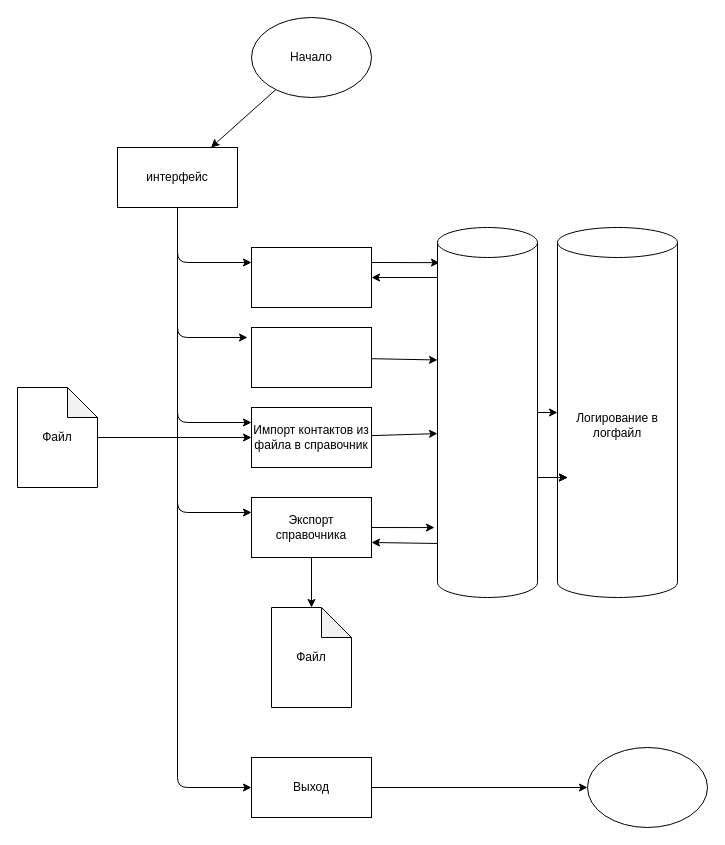
Image size: 725x845. Some labels were removed from this diagram. The box of each missing label's shape, as (x1, y1, x2, y2) in pixels:
Вывод списка контактов в терминал: (250, 246, 372, 308)
Добавление нового контакта: (250, 326, 372, 388)
Конец: (586, 746, 708, 828)
Справочник: (436, 226, 538, 598)
